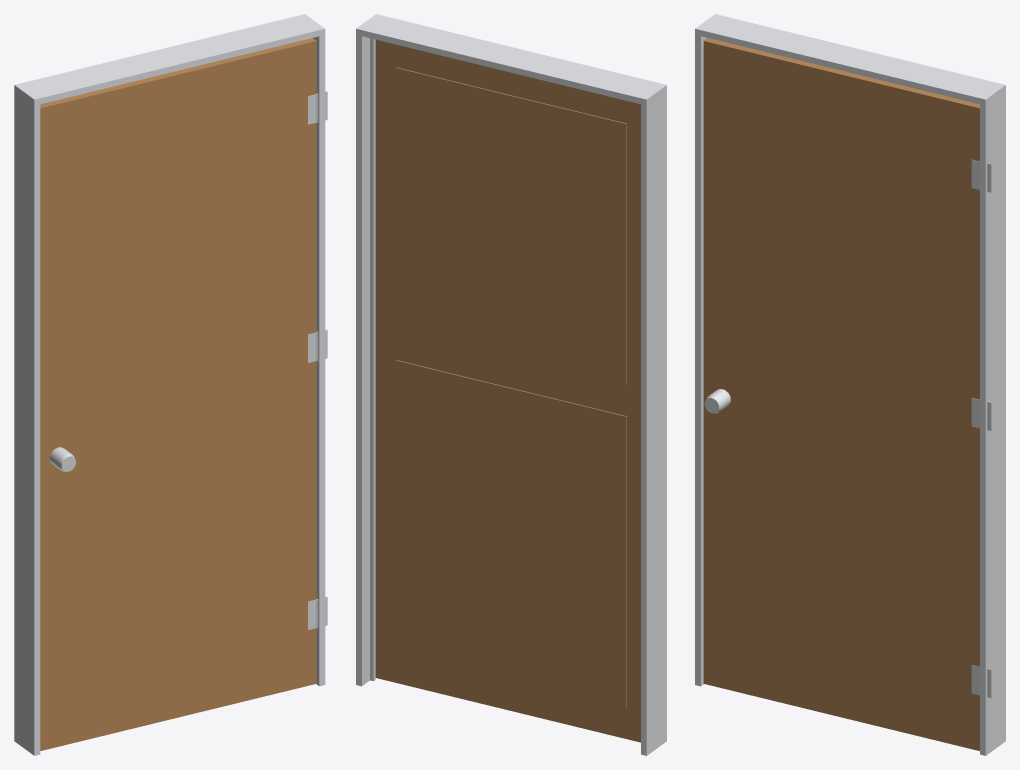
Rendered from door_prehung_36x80.glb.
The picture shows the model from 3 angles, left to right: view 1: azimuth 30°, elevation 25°; view 2: azimuth 150°, elevation 25°; view 3: azimuth 330°, elevation 25°; orthographic projection.
Visible parts, largest first — view 1: slab_door_prehung_36x80, door_prehung_36x80; view 2: slab_door_prehung_36x80, door_prehung_36x80; view 3: slab_door_prehung_36x80, door_prehung_36x80.
Part boxes in pixels (box(x1,y1,x2,y2)): slab_door_prehung_36x80: box(40, 38, 316, 750); door_prehung_36x80: box(14, 14, 325, 755); slab_door_prehung_36x80: box(375, 39, 640, 742); door_prehung_36x80: box(356, 14, 666, 755); slab_door_prehung_36x80: box(703, 38, 979, 750); door_prehung_36x80: box(695, 14, 1005, 755).
Size of the model in its own units: 0.9655 by 2.05 by 0.1643.
